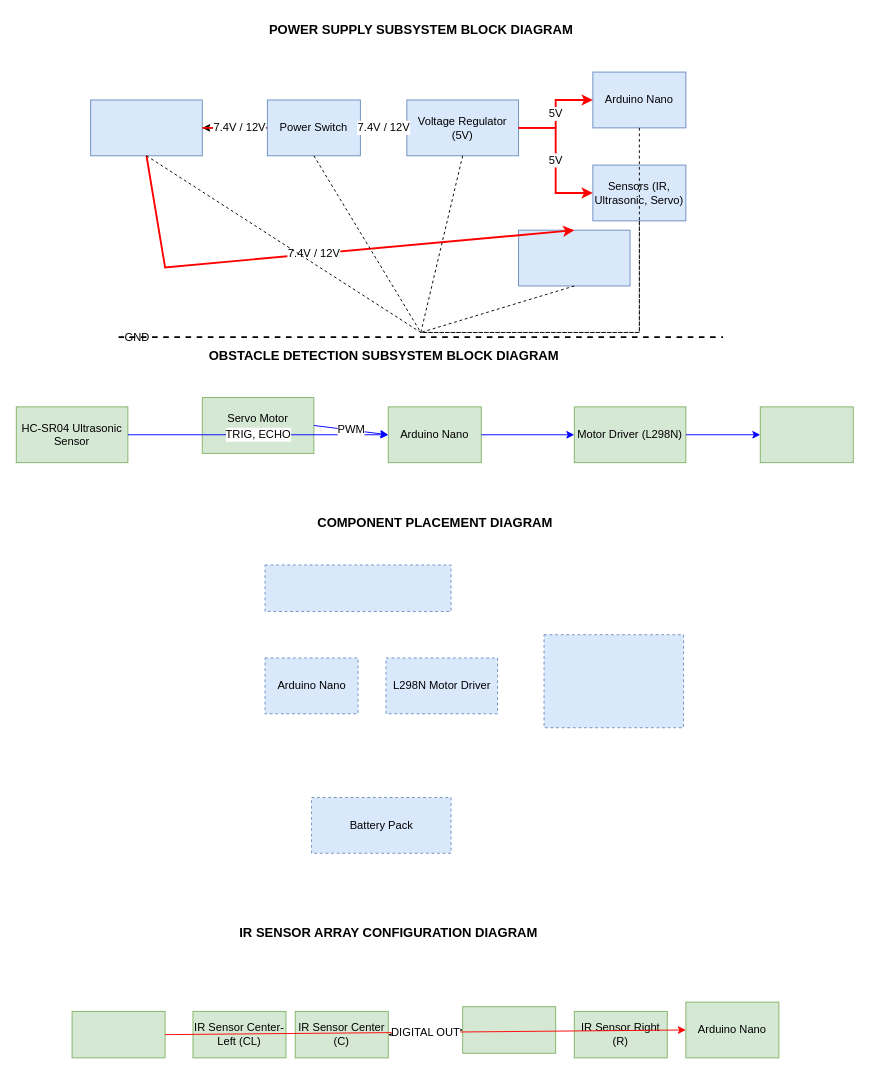
Some shapes in this 870 by 1074 pixel diagram are drawn without their labels. The shapes that lost their labels are listed below. From the top down, each one's centre as x and y in pixels, then its label:
At point 146,127: "Battery (7.4V / 12V)".
At point 574,257: "Motor Driver".
At point 806,434: "Motors".
At point 357,587: "IR Sensor Array".
At point 613,681: "HC-SR04 + Servo".
At point 118,1034: "IR Sensor Left (L)".
At point 509,1029: "IR Sensor Center-Right (CR)".
